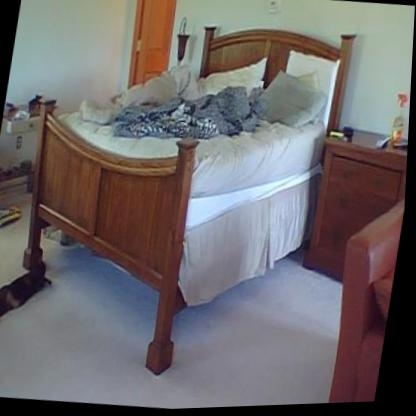Bed: (1, 2, 360, 392)
